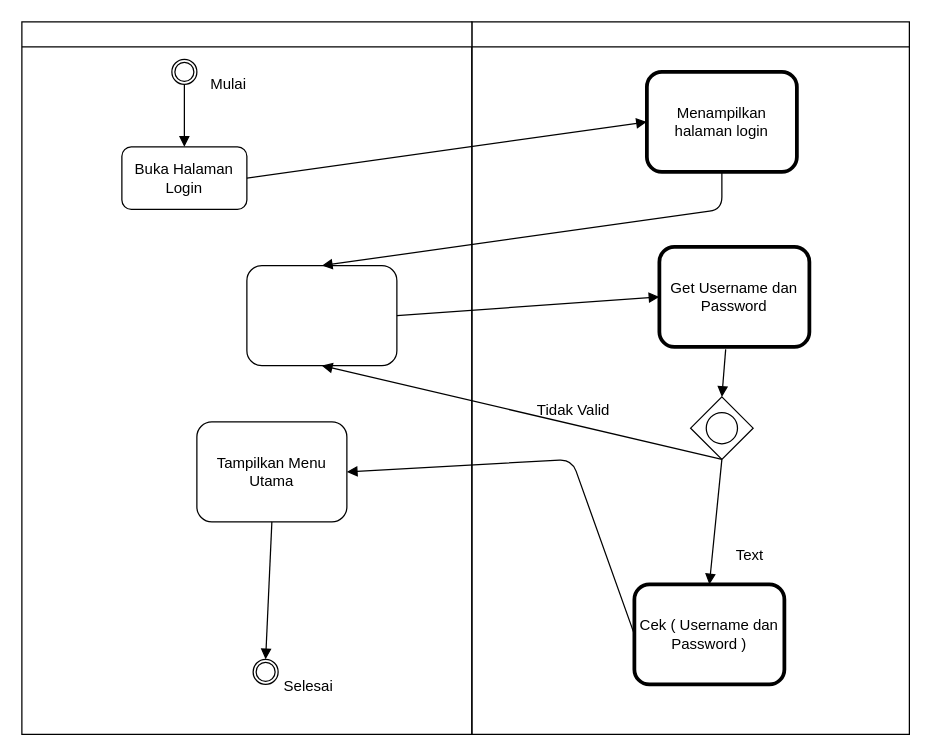
The diagram is 931 pixels wide and 756 high, and some of its shapes have lost their labels. Here are the shapes that lost their labels. From the top down, the box of each, then its label:
(246, 264, 397, 366): Masukkan Username Dan Password
(21, 21, 472, 734): Adminitrasi
(471, 21, 909, 734): Sistem
